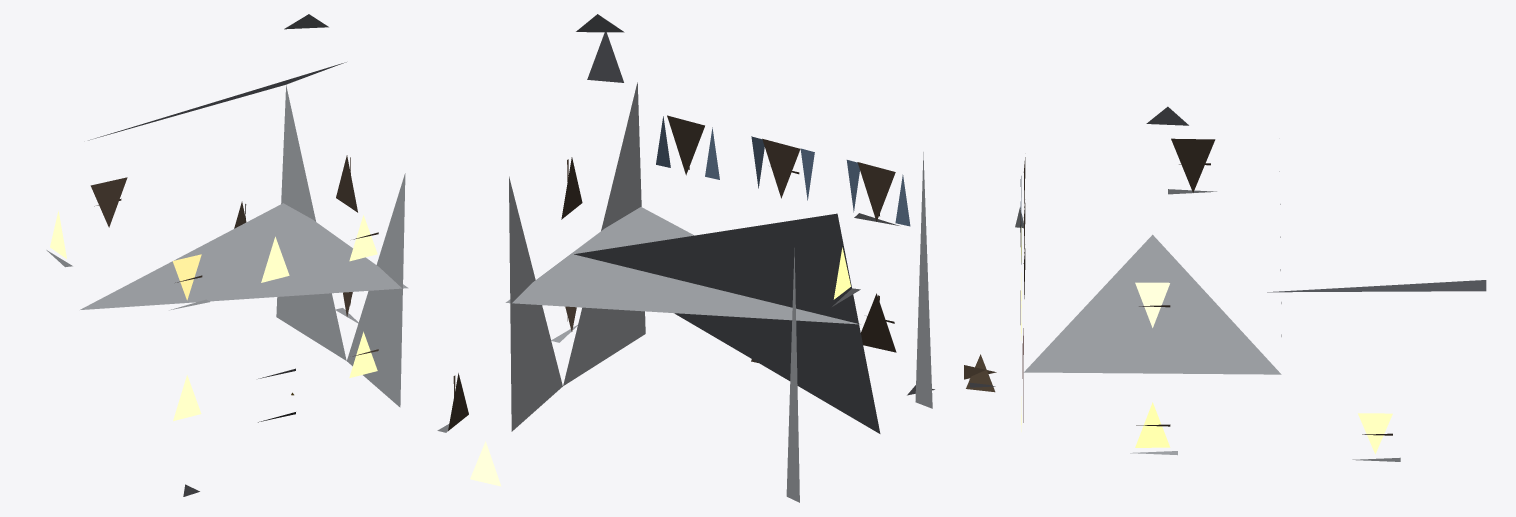
Rendered from bree_house_stone_2_lod2.glb.
3 views of the same model, side by side, from view 1: azimuth 30°, elevation 25°; view 2: azimuth 150°, elevation 25°; view 3: azimuth 270°, elevation 25° (orthographic). The views are drawn at different scales.
Visible parts, largest first — view 1: bree_house_stone_2_lod2; view 2: bree_house_stone_2_lod2; view 3: bree_house_stone_2_lod2.
Boxes of the visible parts, x1,y1,x2,y2 form: bree_house_stone_2_lod2: (46, 14, 408, 496); bree_house_stone_2_lod2: (437, 14, 934, 502); bree_house_stone_2_lod2: (964, 106, 1486, 461).
Size of the model in its own units: 7.2 by 8.45 by 10.63.
